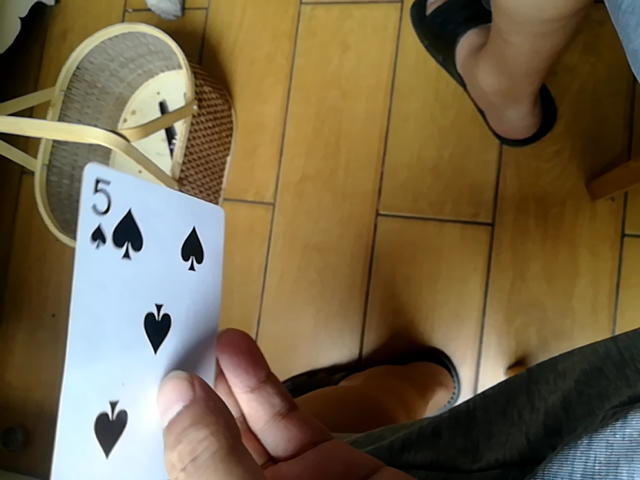ht 5: (52, 157, 227, 468)
